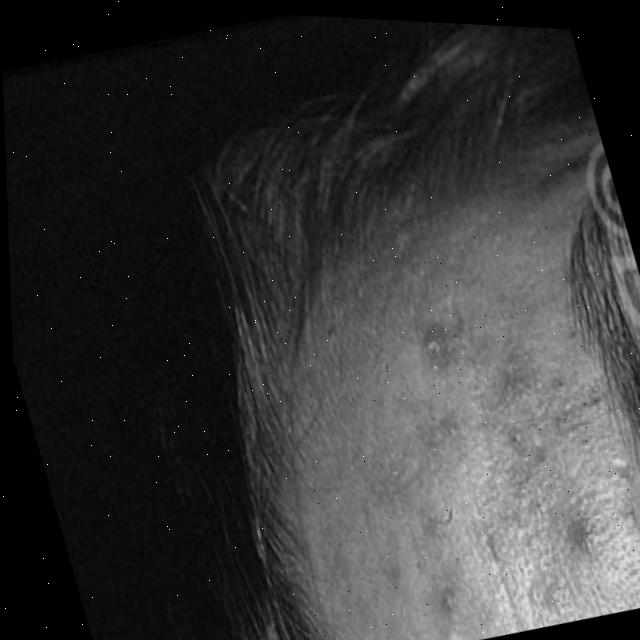Rosacea: (343, 265, 640, 640)
